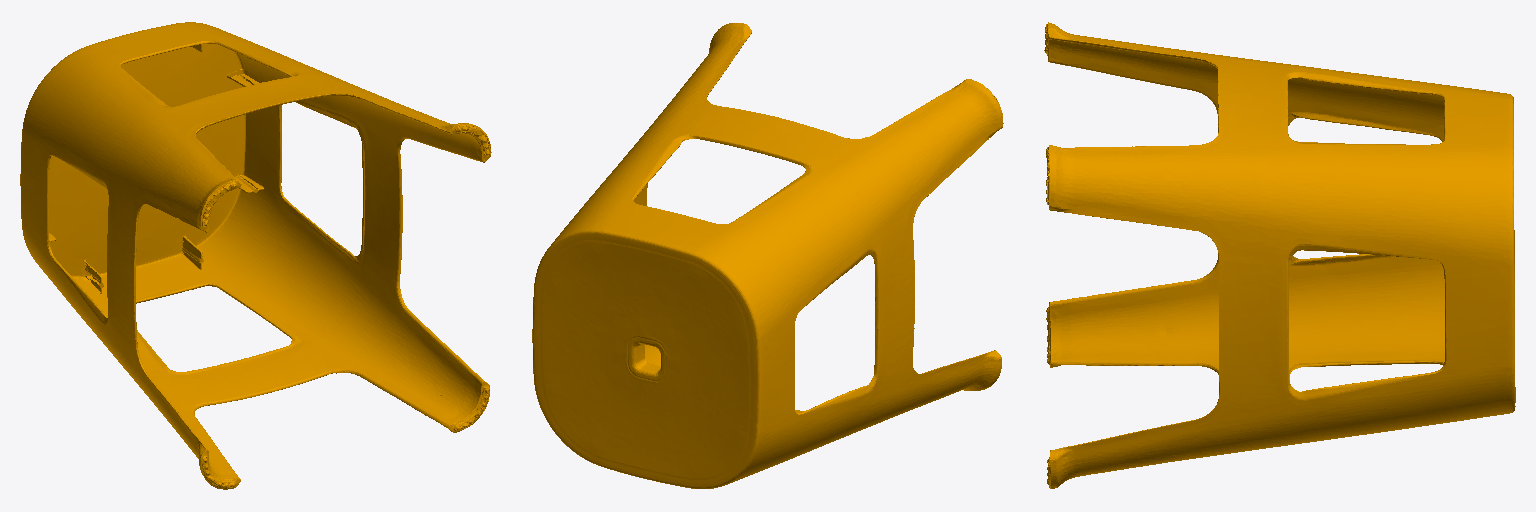
URDF robot description (shelf):
<?xml version="1.0" encoding="UTF-8"?>
<robot name="shelf">
  <link name="shelf_link">
    <visual><origin xyz="0 0 0" rpy="0 0 0"/><geometry><mesh filename="chair_1.obj" scale="1 1 1"/></geometry></visual>
    <collision><origin xyz="0 0 0" rpy="0 0 0"/><geometry><mesh filename="chair_1.obj" scale="1 1 1"/></geometry></collision>
  </link>
</robot>

--- What the picture shows (computed from the rendered views, not written in the file) ---
The picture shows the robot from 3 angles, left to right: view 1: azimuth 30°, elevation 25°; view 2: azimuth 150°, elevation 25°; view 3: azimuth 270°, elevation 25°; orthographic projection.
Robot: shelf — 1 links, 0 joints (none); root link shelf_link; default pose: every joint at zero.
Links seen in each view (by area): view 1: shelf_link; view 2: shelf_link; view 3: shelf_link.
Boxes of the visible links, <box> form: shelf_link: <box>20,22,491,489</box>; shelf_link: <box>532,23,1003,488</box>; shelf_link: <box>1044,22,1515,488</box>.
Size in the robot's own frame: 0.3698 by 0.4709 by 0.3761 metres.
1 mesh visuals loaded from 1 distinct referenced files (1 OBJ).
